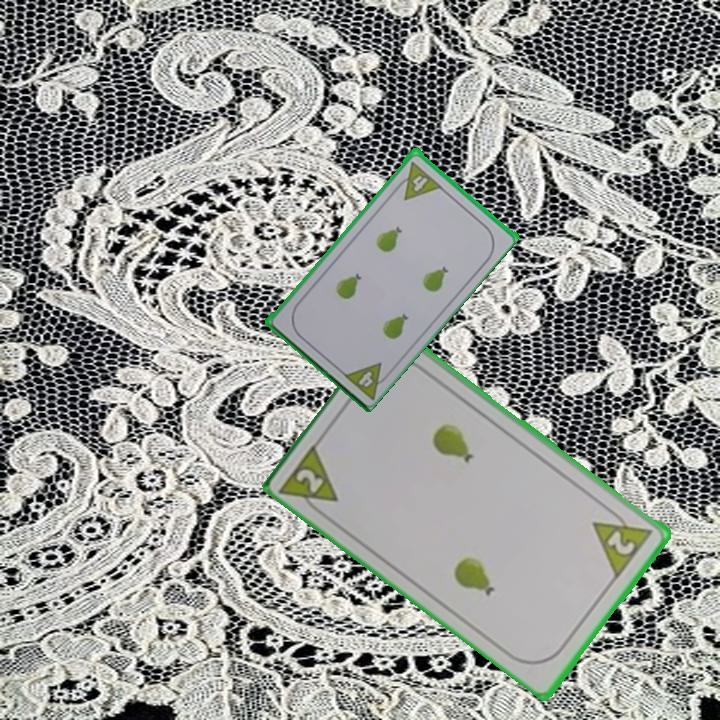2p: (277, 438, 343, 520), (589, 502, 657, 581)
4p: (403, 168, 442, 202), (355, 367, 376, 390)
